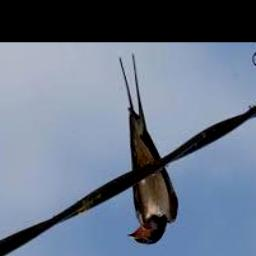Swallow: (118, 55, 178, 245)
